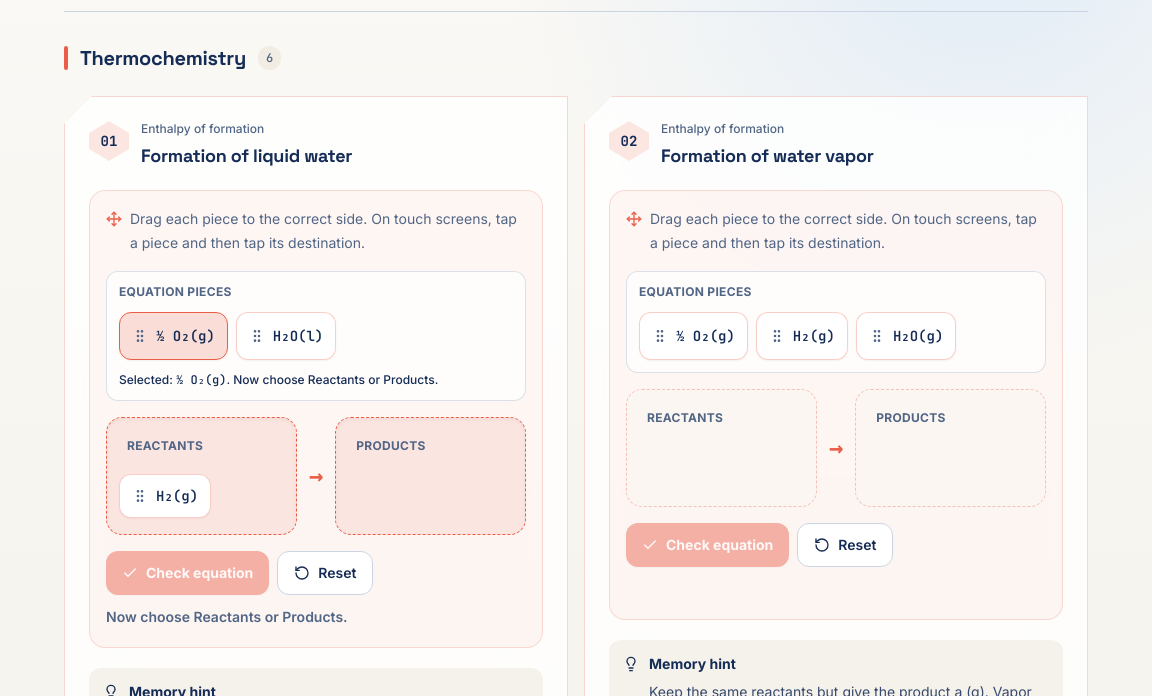
Chemical Equation tool › hides the formula and lets students build it from draggable, touch-friendly pieces
Earlier steps of the test are not shown.
(page scrolled)
Click the button "Reactants" below "Selected": (165, 446) [119, 430, 211, 462]
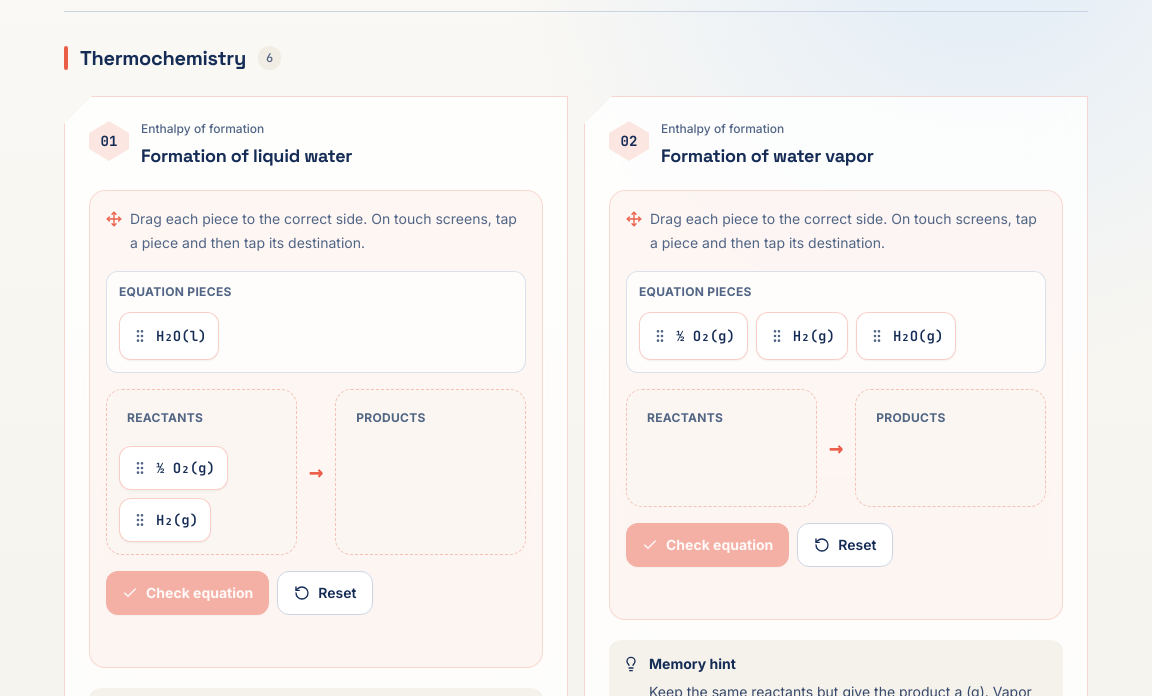
Click the button "H₂O(l)": (169, 336) [119, 312, 219, 360]
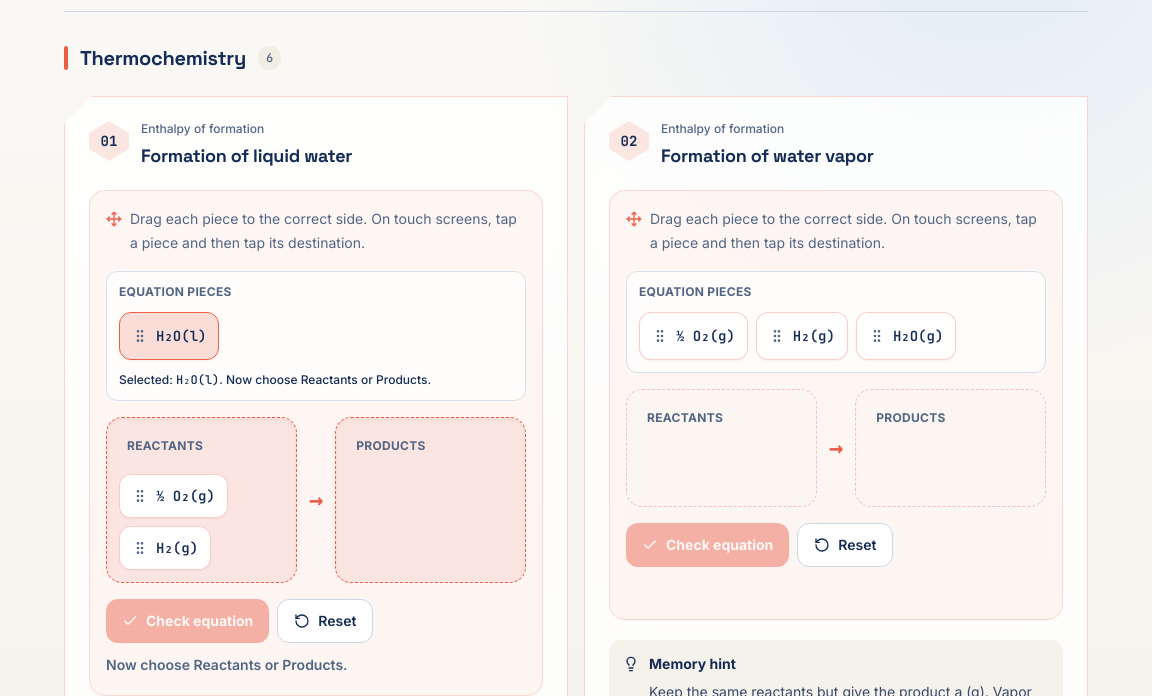
Click the button "Products" below "Selected": (391, 446) [348, 430, 434, 462]
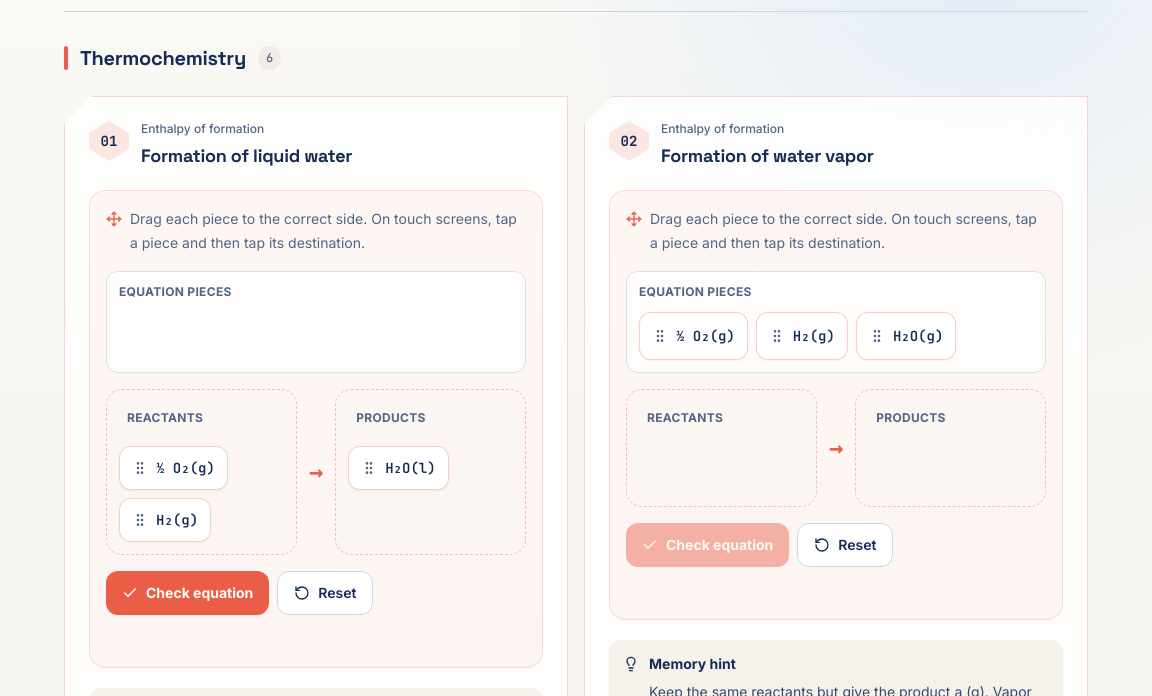
Now the 2nd button "Check equation" is enabled
Click the 2nd button "Check equation": (188, 593) [106, 571, 269, 615]
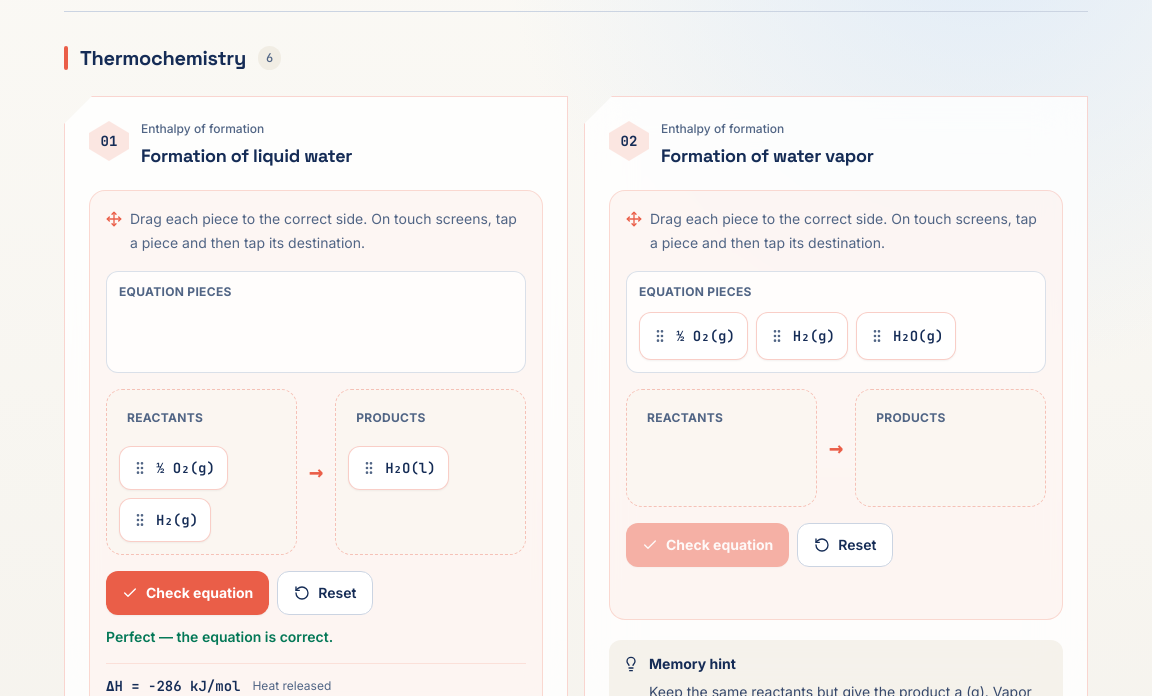
Expected: the text "H₂(g) + ½ O₂(g) → H₂O(g)" is not shown
Now the text "Perfect — the equation is correct." is shown, box [106, 628, 333, 645]
Now the text "ΔH = −286 kJ/mol" is shown, box [106, 676, 240, 695]
Click the 2nd button "Reset": (325, 593) [277, 571, 374, 615]
(page scrolled)
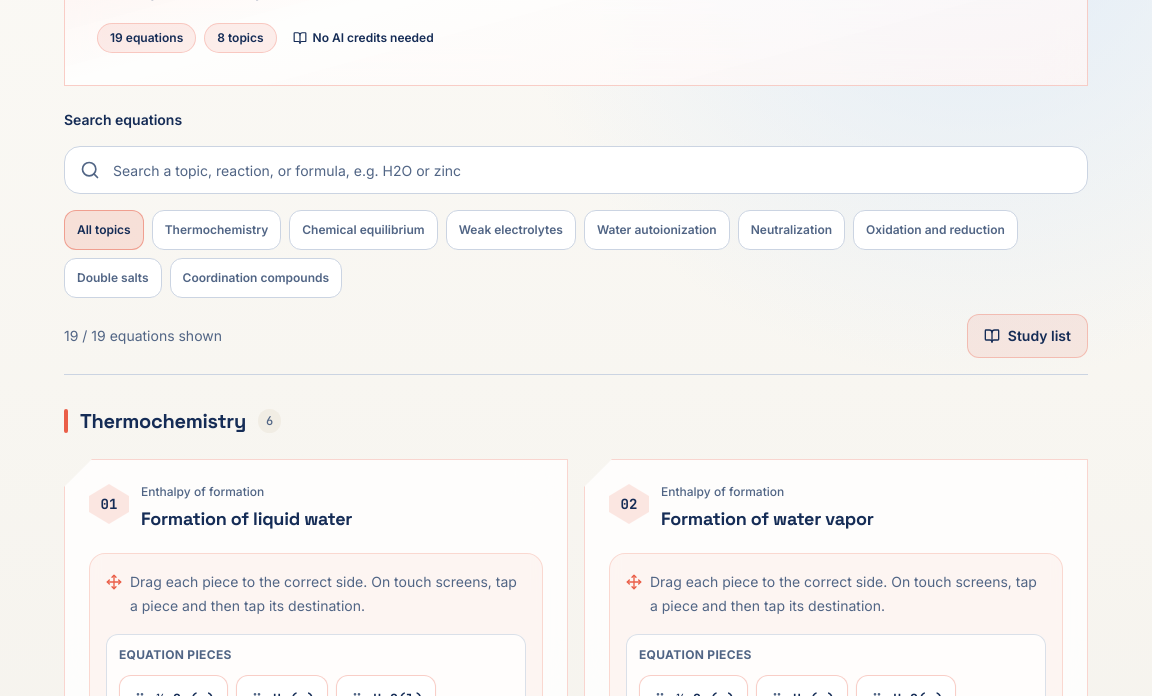
Click the button "Study list": (1027, 336) [967, 314, 1088, 358]
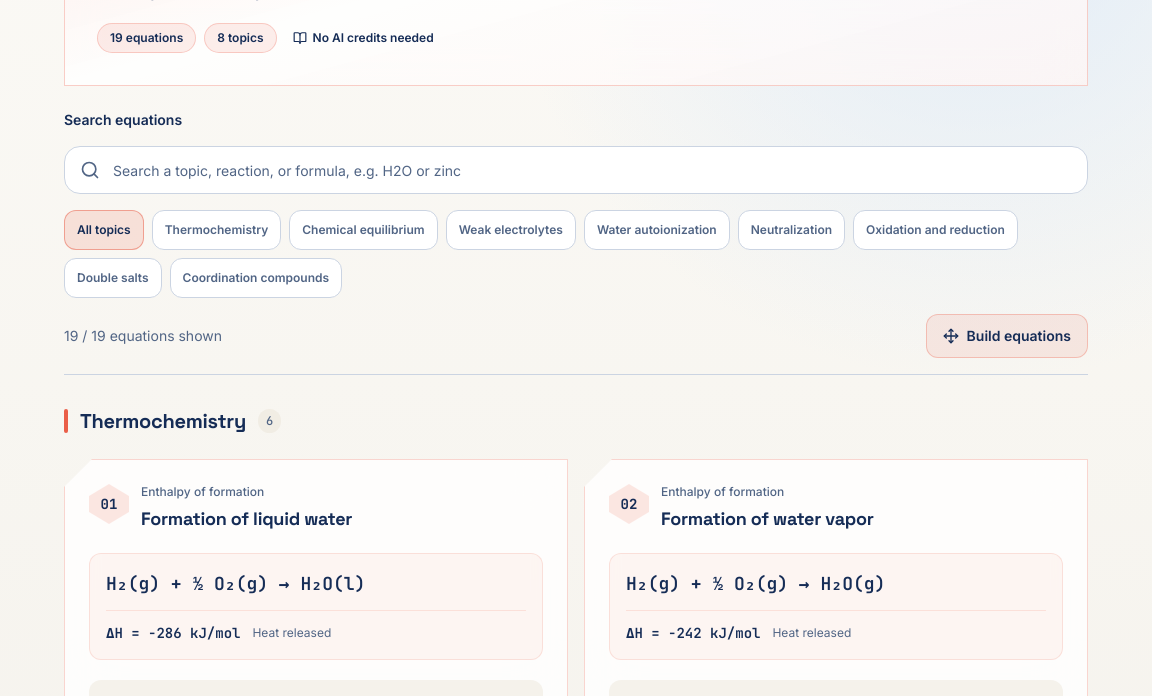
Now the number of elements named " · equations" is 19
